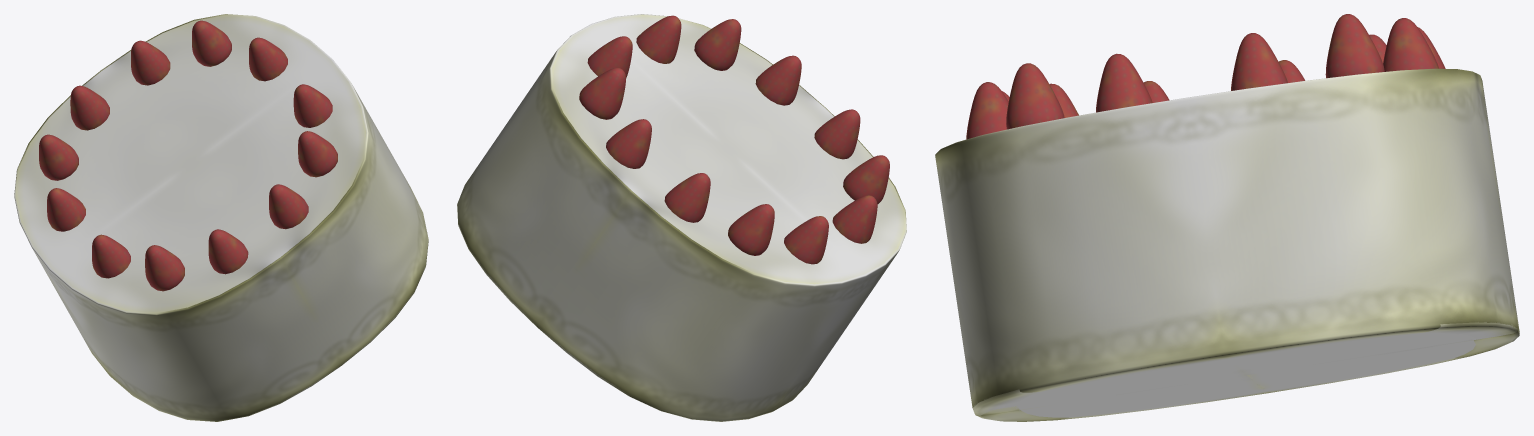
File: Cake_Hat.glb
The picture shows the model from 3 angles, left to right: view 1: azimuth 30°, elevation 25°; view 2: azimuth 150°, elevation 25°; view 3: azimuth 270°, elevation 25°; orthographic projection. The views are drawn at different scales.
Visible parts, largest first — view 1: Cake_Hat; view 2: Cake_Hat; view 3: Cake_Hat.
Part boxes in pixels (x1,y1,x2,y2): Cake_Hat: [14, 14, 428, 421]; Cake_Hat: [457, 14, 906, 421]; Cake_Hat: [935, 14, 1519, 421].
Size of the model in its own units: 0.5778 by 0.5086 by 0.5694.
2 materials, 2 textured.
